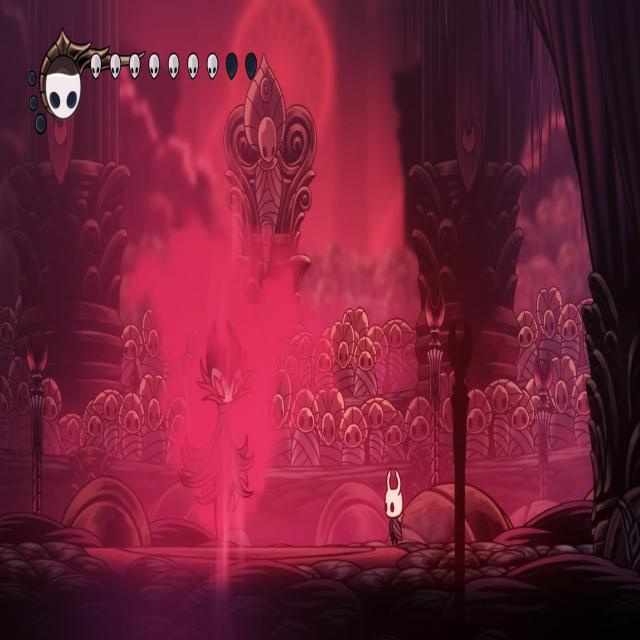Player: (381, 461, 407, 547)
Pufferfish: (175, 314, 257, 542)
